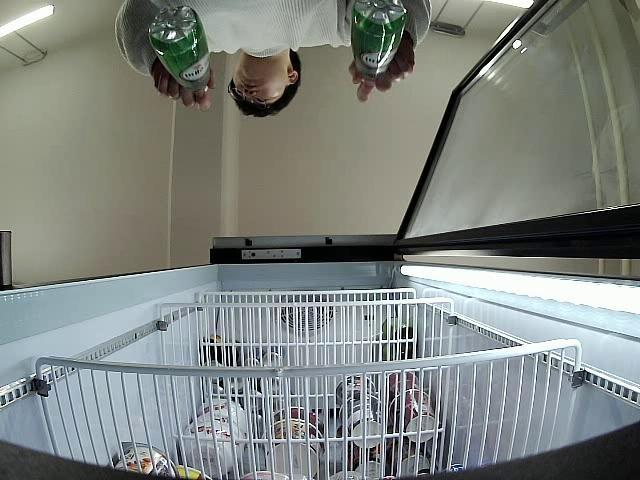18_trevi: (148, 6, 214, 93), (354, 0, 406, 80)
